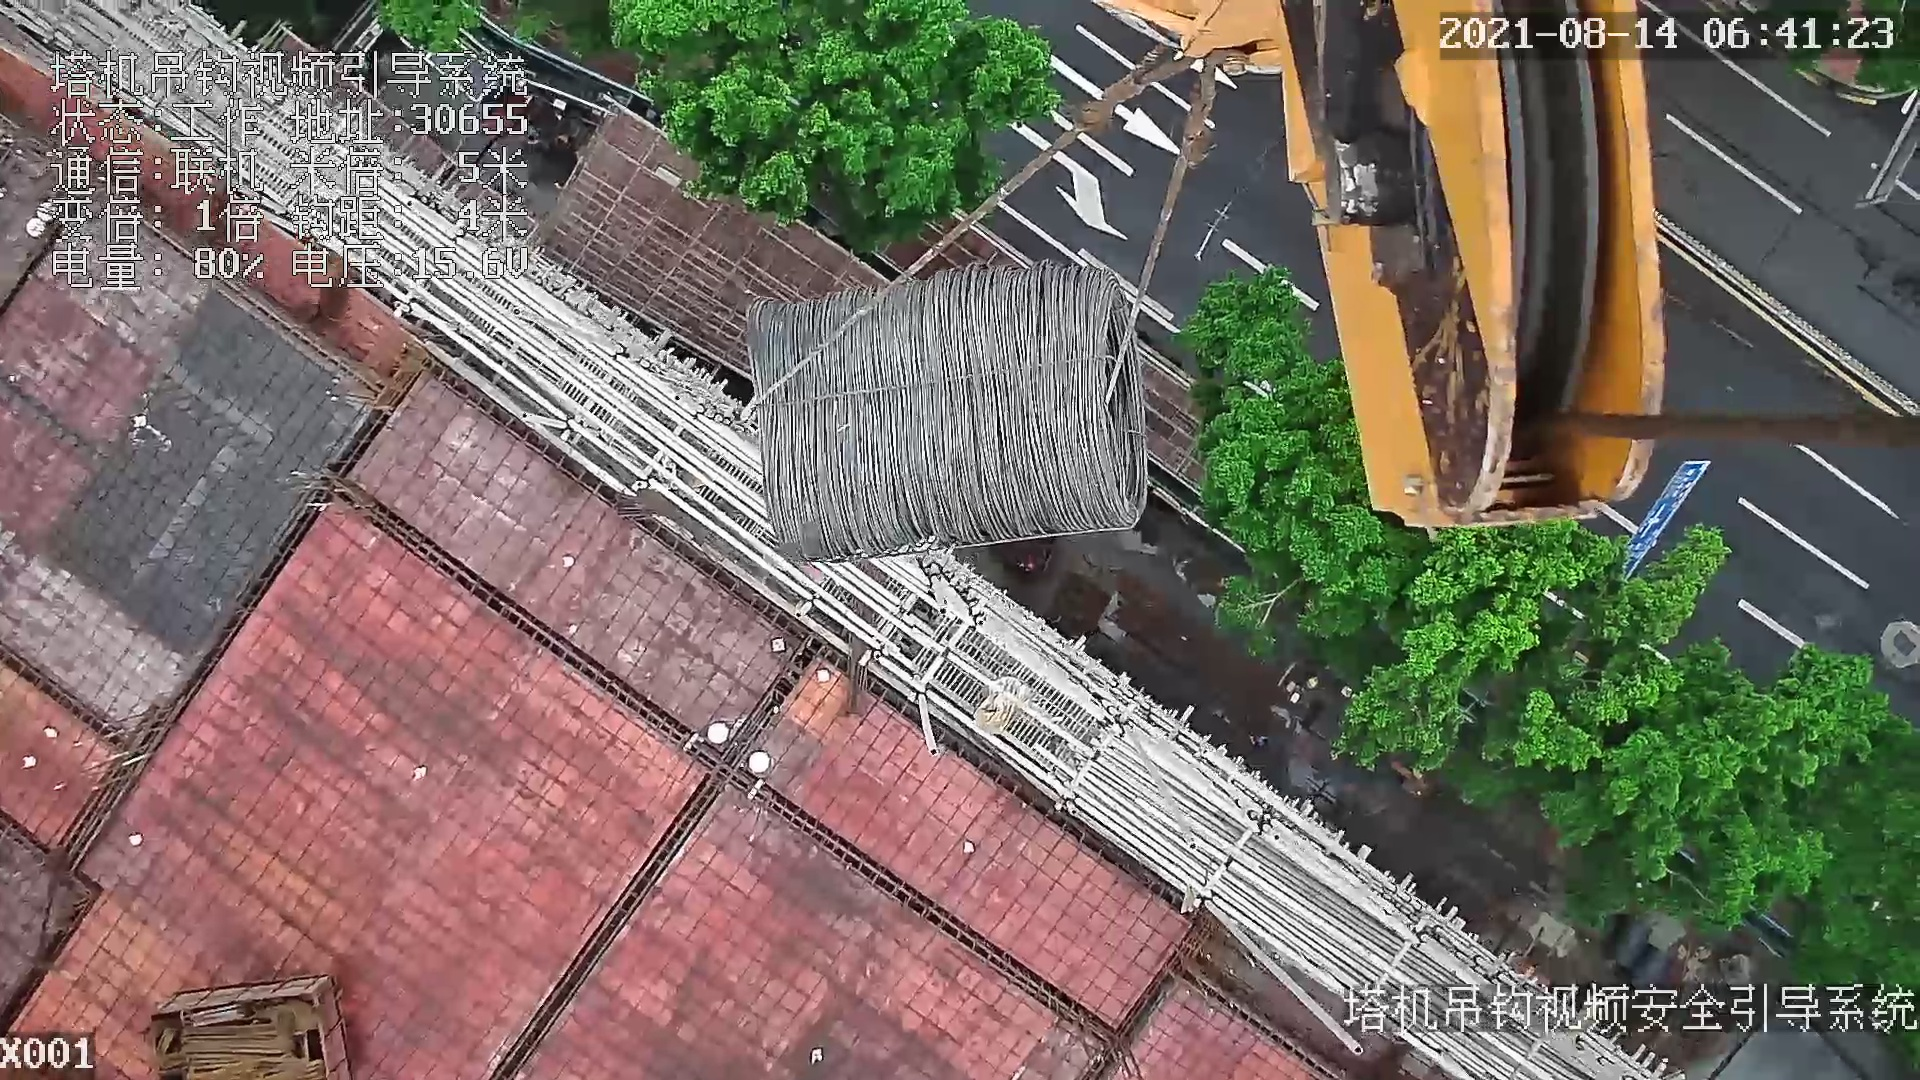hook: (1059, 1, 1691, 522)
